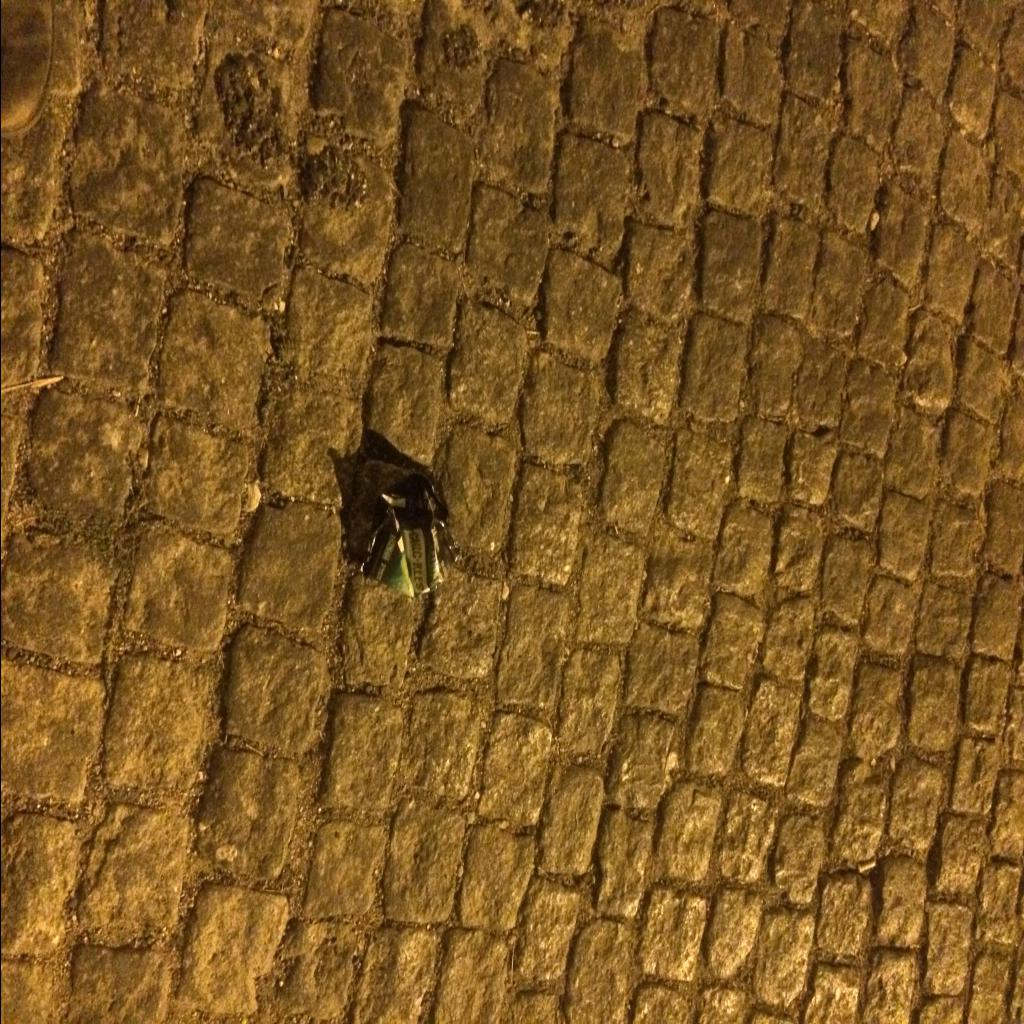Cigarette: (856, 858, 875, 872)
Plastic film: (356, 472, 460, 598)
